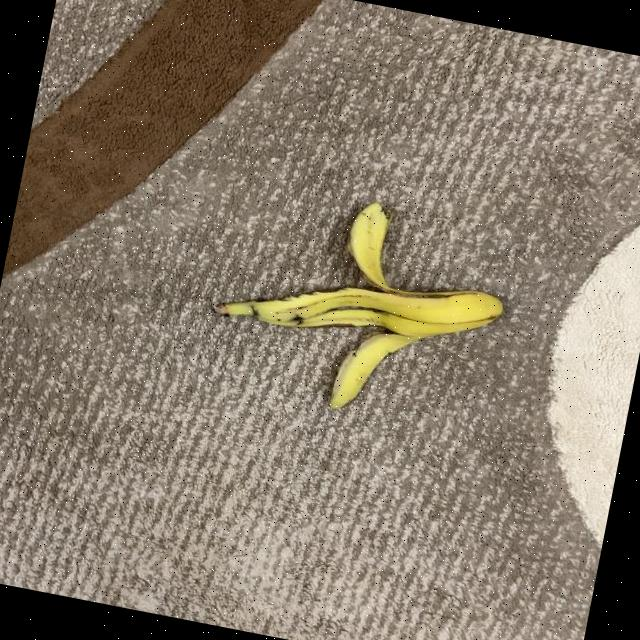banana-peel: (197, 174, 518, 438), (210, 240, 505, 370)
